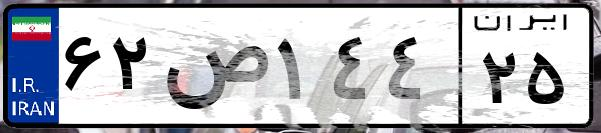1: (270, 28, 330, 110)
2: (475, 38, 525, 113), (110, 28, 158, 98)
4: (385, 28, 445, 110), (330, 28, 385, 110)
5: (525, 38, 570, 115)
6: (57, 26, 110, 100)
ص: (158, 20, 270, 120)
